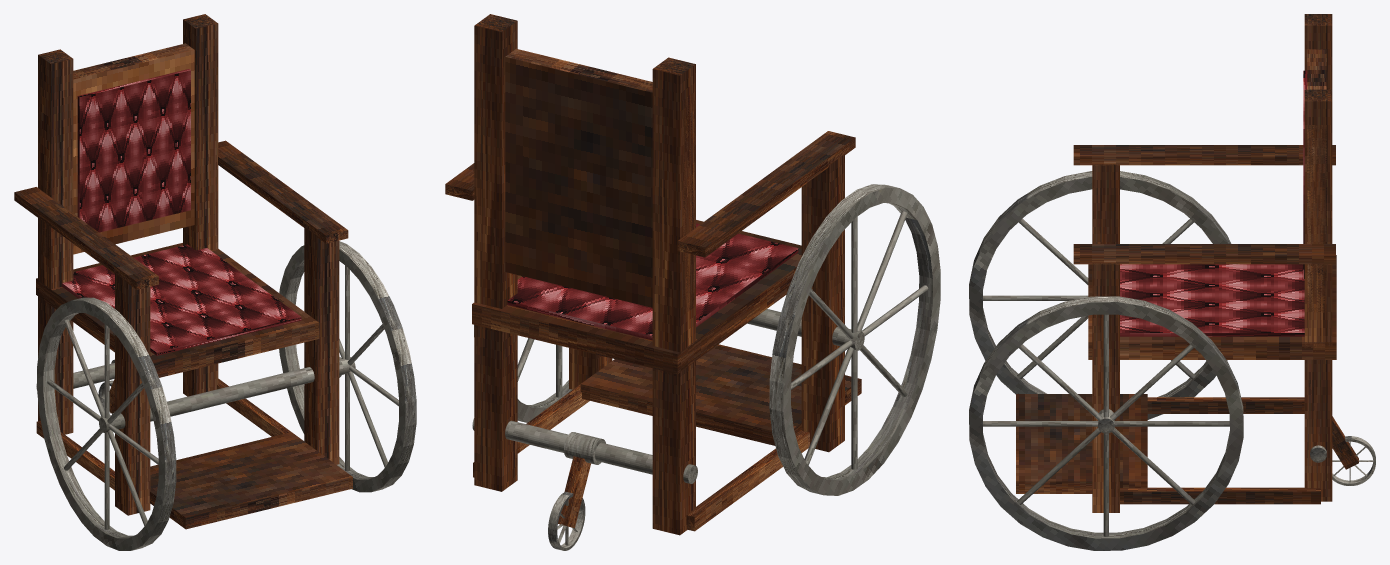
Rendered from wheelchair.glb.
3 renders of one model, left to right at view 1: azimuth 30°, elevation 25°; view 2: azimuth 150°, elevation 25°; view 3: azimuth 270°, elevation 25°, orthographic. The views are drawn at different scales.
Parts seen in each view (by area): view 1: Cube.009, Cylinder.005, Cube.008, Cube.012, Cylinder.007, Cube.007, Cube.001, Cube.006, Cube.005, Cube, Cube.002, Cube.011 (+7 smaller); view 2: Cube.007, Cylinder.005, Cube.005, Cube.012, Cube.006, Cube, Cube.008, Cube.002, Cube.004, Cube.003, Cube.011, Cylinder.003 (+9 smaller); view 3: Cylinder.007, Cube.008, Cylinder.005, Cube.012, Cube.006, Cube.010, Cube, Cube.001, Cube.011, Cube.003, Cube.007, Cube.013 (+5 smaller).
Boxes of the visible parts, box(x1,y1,x2,y2) form: Cube.009: box(77, 69, 190, 232); Cylinder.005: box(37, 297, 176, 550); Cube.008: box(62, 244, 301, 355); Cube.012: box(150, 432, 352, 529); Cylinder.007: box(279, 241, 416, 492); Cube.007: box(40, 43, 194, 259); Cube.001: box(304, 227, 339, 464); Cube.006: box(183, 14, 218, 250); Cube.005: box(38, 49, 73, 289); Cube: box(36, 243, 319, 377); Cube.002: box(115, 273, 150, 515); Cube.011: box(14, 187, 158, 289); Cube.007: box(505, 48, 694, 314); Cylinder.005: box(769, 184, 940, 495); Cube.005: box(652, 57, 695, 352); Cube.012: box(580, 344, 861, 445); Cube.006: box(474, 14, 517, 308); Cube: box(472, 220, 801, 374); Cube.008: box(507, 223, 798, 340); Cube.002: box(801, 154, 844, 452); Cube.004: box(652, 361, 695, 535); Cube.003: box(474, 325, 517, 491); Cube.011: box(677, 131, 855, 257); Cylinder.003: box(472, 418, 697, 483); Cylinder.007: box(969, 296, 1243, 550); Cube.008: box(1120, 264, 1304, 336); Cylinder.005: box(969, 171, 1231, 419); Cube.012: box(1016, 394, 1147, 493); Cube.006: box(1304, 89, 1332, 349); Cube.010: box(1073, 244, 1335, 264); Cube: box(1088, 255, 1336, 359); Cube.001: box(1092, 263, 1119, 512); Cube.011: box(1073, 145, 1335, 165); Cube.003: box(1304, 360, 1332, 501); Cube.007: box(1307, 49, 1326, 312); Cube.013: box(1120, 487, 1320, 504).
Size of the model in its own units: 1.13 by 1.71 by 1.48.
Materials: 34 (34 with a texture image).
